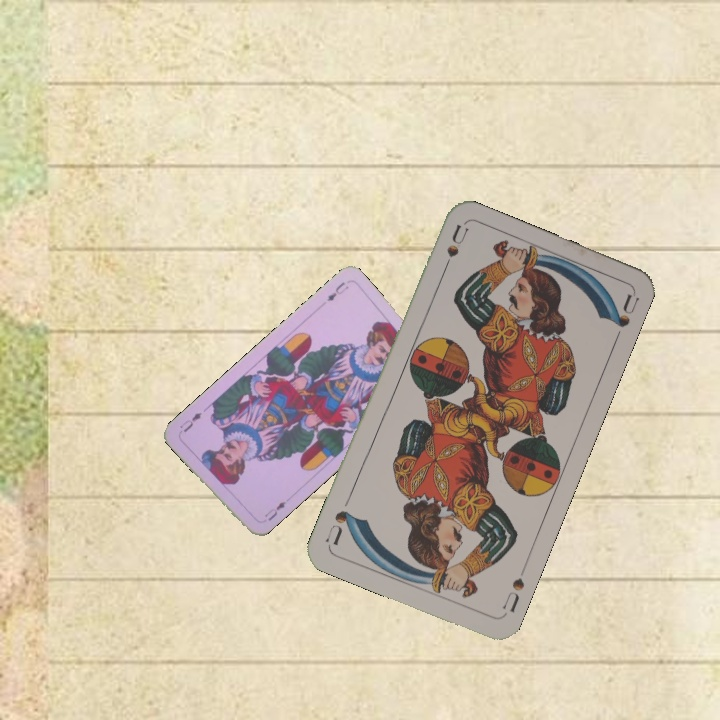EU: (260, 497, 288, 524), (323, 278, 351, 304)
SU: (437, 221, 471, 279), (498, 573, 527, 615)
